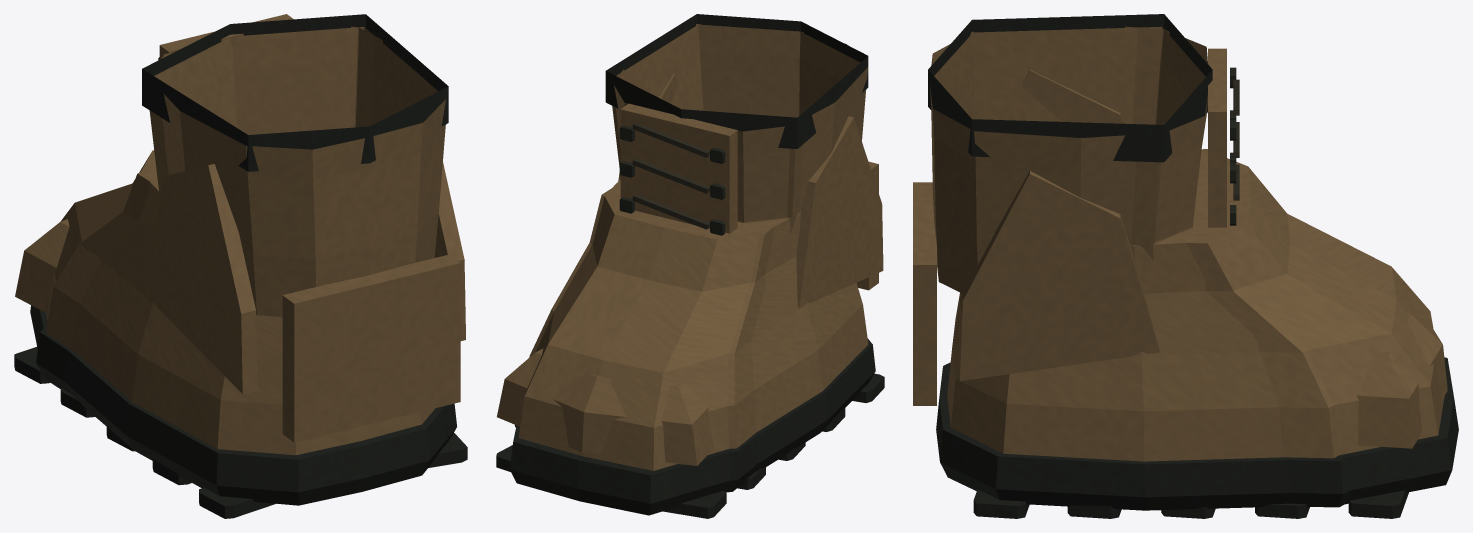
The model's file is boots_desert.glb.
3 views of the same model, side by side, from view 1: azimuth 30°, elevation 25°; view 2: azimuth 150°, elevation 25°; view 3: azimuth 270°, elevation 25° (orthographic). The views are drawn at different scales.
Parts seen in each view (by area): view 1: boots_desert_footL_LOD0_RAID_suede, boots_desert_footL_LOD1_RAID_suede, boots_desert_footL_LOD0_RAID_rubber, boots_desert_footL_LOD1_RAID_rubber; view 2: boots_desert_footL_LOD0_RAID_suede, boots_desert_footL_LOD1_RAID_suede, boots_desert_footL_LOD0_RAID_rubber, boots_desert_footL_LOD0_RAID_lace, boots_desert_footL_LOD0_RAID_zip, boots_desert_footL_LOD1_RAID_rubber; view 3: boots_desert_footL_LOD0_RAID_suede, boots_desert_footL_LOD0_RAID_rubber, boots_desert_footL_LOD1_RAID_suede, boots_desert_footL_LOD1_RAID_rubber, boots_desert_footL_LOD0_RAID_zip, boots_desert_footL_LOD0_RAID_lace.
Part boxes in pixels (x1,y1,x2,y2): boots_desert_footL_LOD0_RAID_suede: (15,17,465,455); boots_desert_footL_LOD1_RAID_suede: (46,14,460,442); boots_desert_footL_LOD0_RAID_rubber: (14,14,467,518); boots_desert_footL_LOD1_RAID_rubber: (36,329,381,452); boots_desert_footL_LOD0_RAID_suede: (497,24,883,470); boots_desert_footL_LOD1_RAID_suede: (529,24,878,448); boots_desert_footL_LOD0_RAID_rubber: (496,14,884,518); boots_desert_footL_LOD0_RAID_lace: (632,122,709,229); boots_desert_footL_LOD0_RAID_zip: (619,125,725,235); boots_desert_footL_LOD1_RAID_rubber: (515,422,772,492); boots_desert_footL_LOD0_RAID_suede: (913,26,1447,461); boots_desert_footL_LOD0_RAID_rubber: (928,14,1458,518); boots_desert_footL_LOD1_RAID_suede: (913,26,1339,458); boots_desert_footL_LOD1_RAID_rubber: (939,389,1453,507); boots_desert_footL_LOD0_RAID_zip: (1230,67,1236,225); boots_desert_footL_LOD0_RAID_lace: (1233,79,1239,200).
Size of the model in its own units: 0.202 by 0.2685 by 0.3435.
4 materials, 4 textured.
